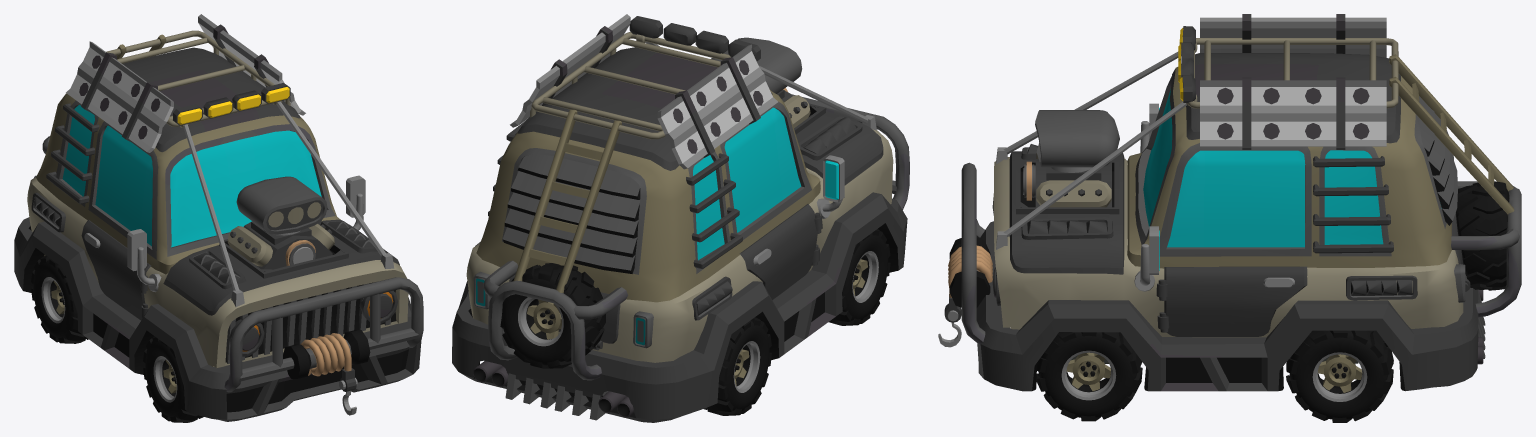
File: VEH9-D.fbx
3 renders of one model, left to right at view 1: azimuth 30°, elevation 25°; view 2: azimuth 150°, elevation 25°; view 3: azimuth 270°, elevation 25°, orthographic. The views are drawn at different scales.
Parts seen in each view (by area): view 1: VEH9_D, V9D_Wheel_BR, V9D_Wheel_FR, V9D_BodyParts; view 2: VEH9_D, V9D_BodyParts, V9D_Wheel_BR, V9D_Wheel_FR; view 3: VEH9_D, V9D_Wheel_BL, V9D_Wheel_FL, V9D_BodyParts.
Boxes of the visible parts, bbox=[...] form: VEH9_D: bbox=[14, 14, 423, 421]; V9D_Wheel_BR: bbox=[31, 255, 88, 343]; V9D_Wheel_FR: bbox=[143, 336, 203, 422]; V9D_BodyParts: bbox=[300, 333, 357, 415]; VEH9_D: bbox=[452, 14, 909, 422]; V9D_BodyParts: bbox=[500, 263, 605, 368]; V9D_Wheel_BR: bbox=[704, 317, 771, 415]; V9D_Wheel_FR: bbox=[828, 229, 890, 325]; VEH9_D: bbox=[949, 14, 1521, 391]; V9D_Wheel_BL: bbox=[1286, 330, 1393, 422]; V9D_Wheel_FL: bbox=[1036, 332, 1142, 421]; V9D_BodyParts: bbox=[938, 181, 1509, 347].
Size of the model in its own units: 256 by 289 by 480.
1 material, 1 textured.
